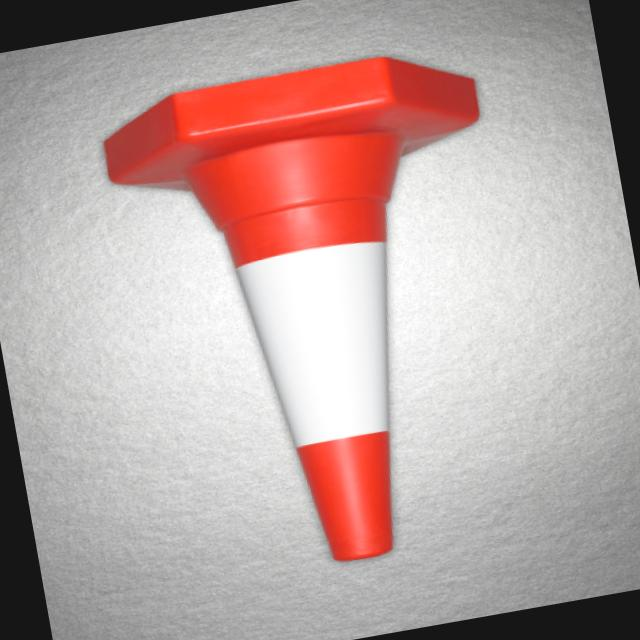cone: (43, 18, 610, 624)
